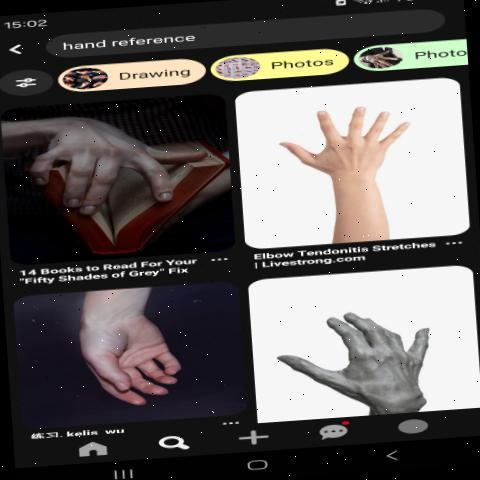Hands: (265, 288, 477, 416), (25, 113, 219, 237), (48, 282, 240, 405), (276, 93, 440, 214)
